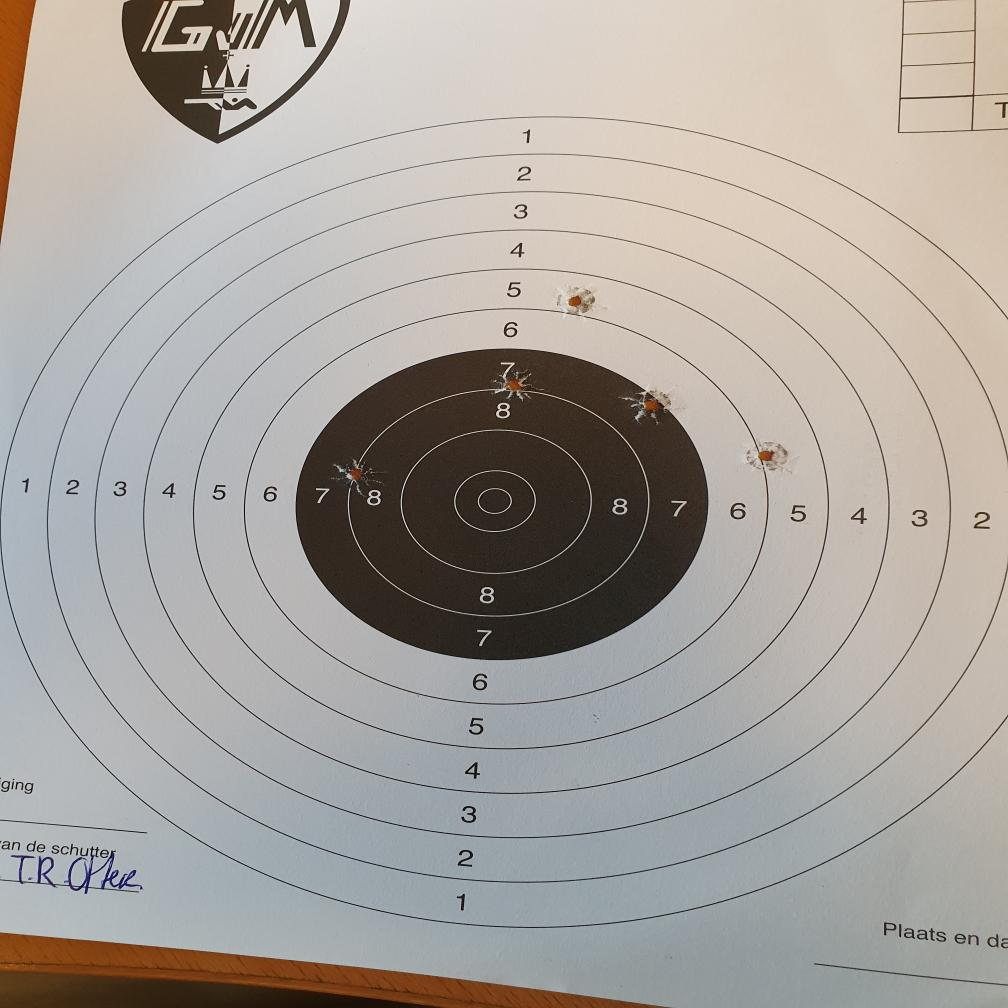6: (550, 280, 602, 322), (744, 438, 797, 474)
7: (624, 385, 682, 426)
8: (488, 368, 547, 407), (336, 454, 388, 496)
Target: (0, 114, 1008, 927)
black_contour: (298, 347, 708, 661)
